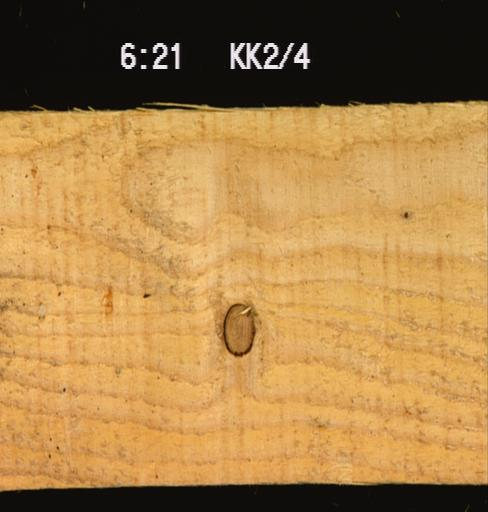dry_knot: (219, 300, 257, 356)
small_knot: (401, 208, 408, 219)
